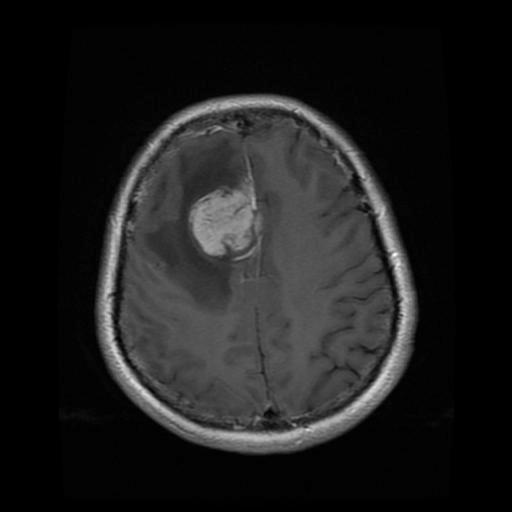Tumour-Meningioma: (192, 175, 271, 274)
